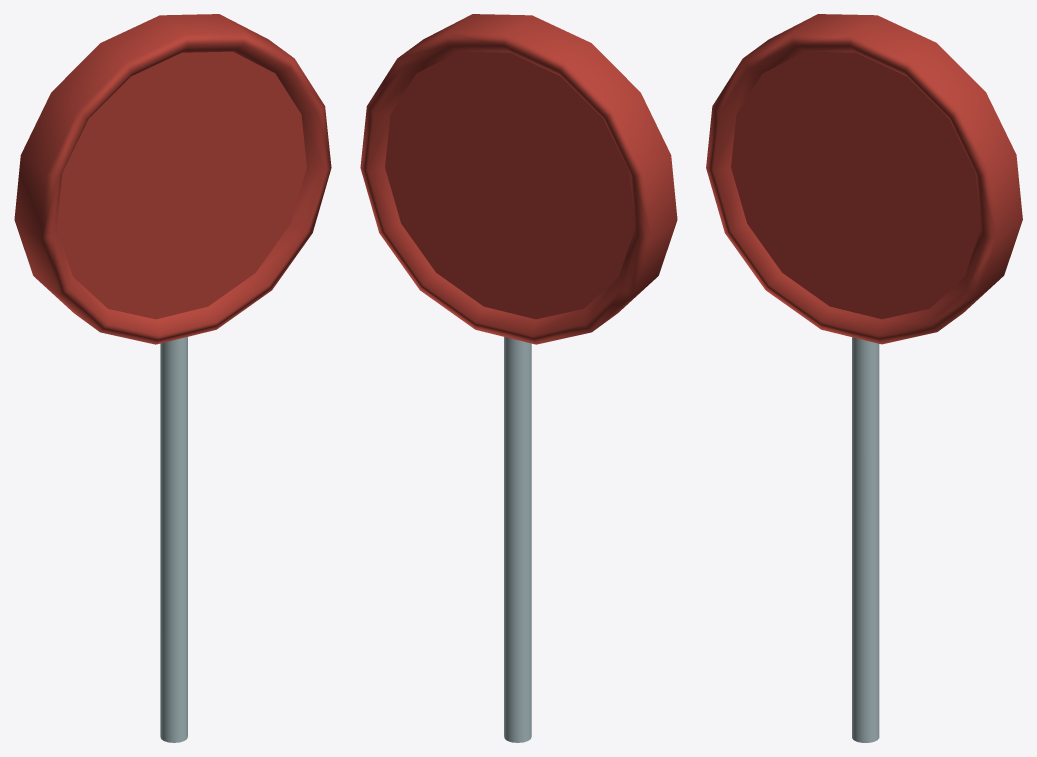
File: sign.fbx
3 renders of one model, left to right at view 1: azimuth 30°, elevation 25°; view 2: azimuth 150°, elevation 25°; view 3: azimuth 330°, elevation 25°, orthographic.
Parts seen in each view (by area): view 1: sign; view 2: sign; view 3: sign.
Boxes of the visible parts, x1,y1,x2,y2 form: sign: (14,14,331,742); sign: (360,14,677,742); sign: (706,14,1022,742).
Bounding box in the file's own units: 68.57 × 160 × 12.35.
